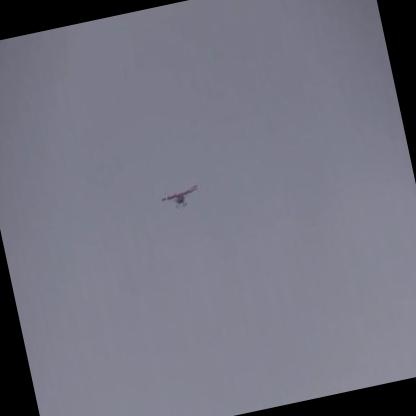plane: (159, 183, 201, 212)
